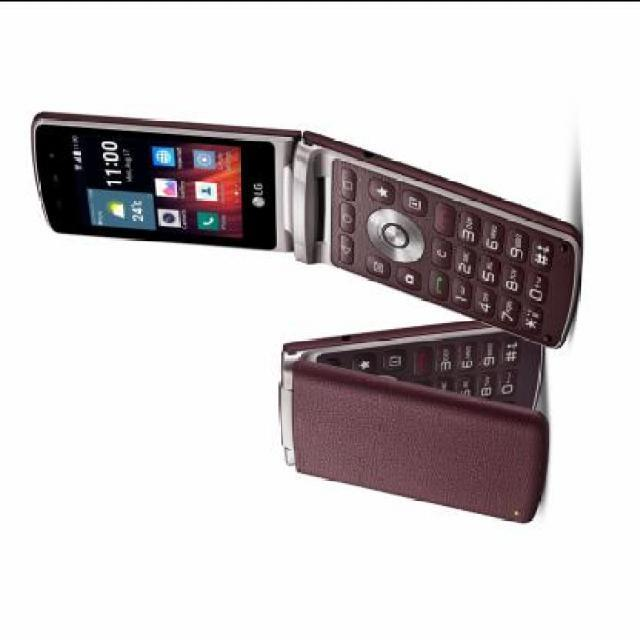phone: (82, 114, 584, 345), (276, 319, 550, 522)
